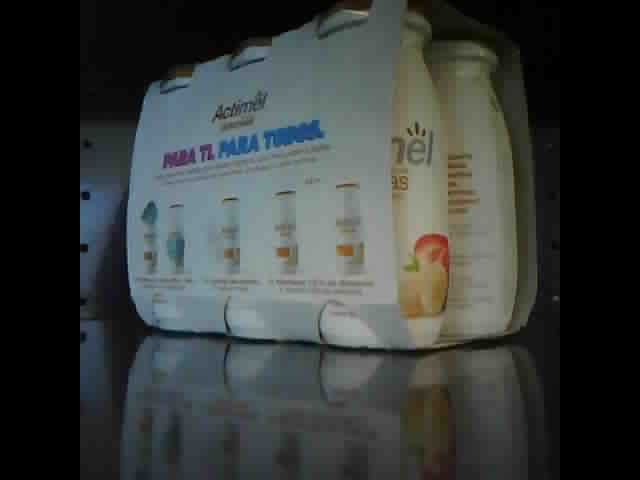actimel: (125, 1, 540, 351)
